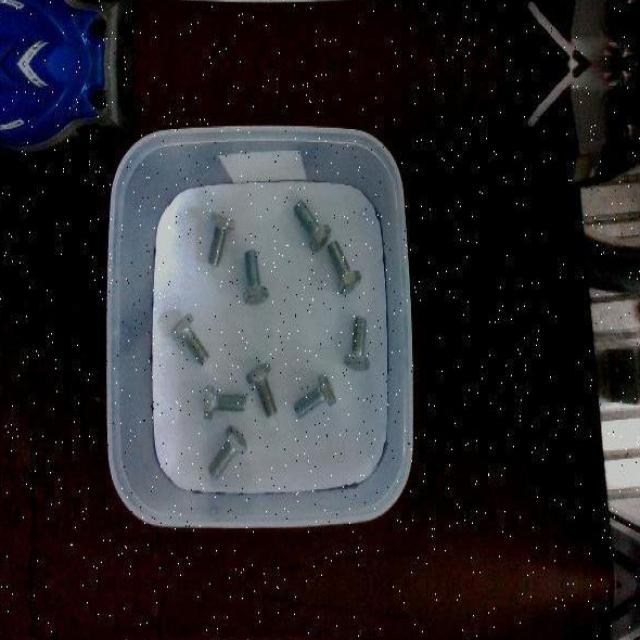screw: (208, 424, 248, 479), (170, 313, 210, 366), (293, 200, 332, 253), (294, 373, 337, 418), (246, 360, 278, 415), (328, 240, 361, 293), (208, 209, 236, 266), (343, 313, 370, 370), (243, 248, 269, 305), (203, 384, 245, 419)
